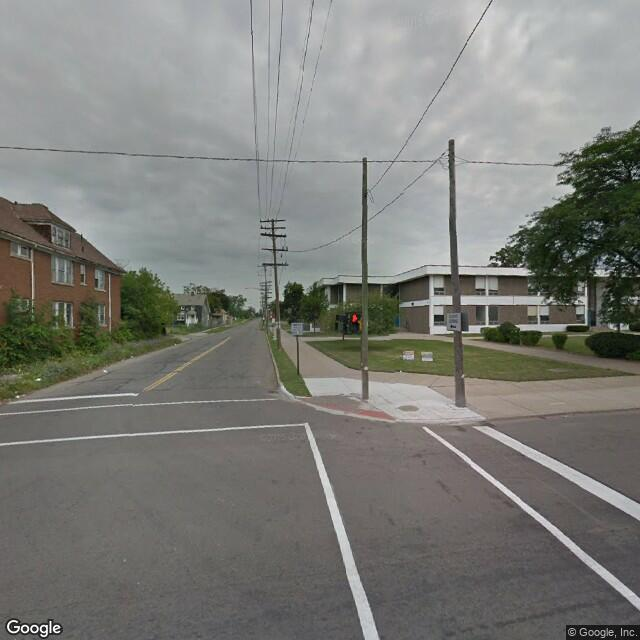litter: (101, 367, 109, 375), (398, 369, 407, 376), (14, 394, 22, 398), (34, 377, 42, 380), (14, 367, 22, 369), (174, 341, 176, 345), (130, 355, 134, 357)
